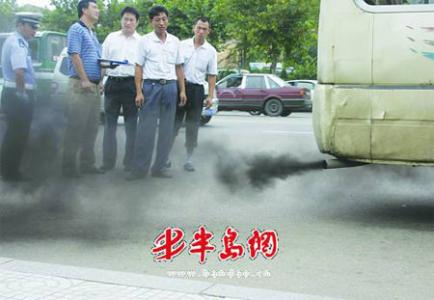smoke: (200, 143, 325, 199)
